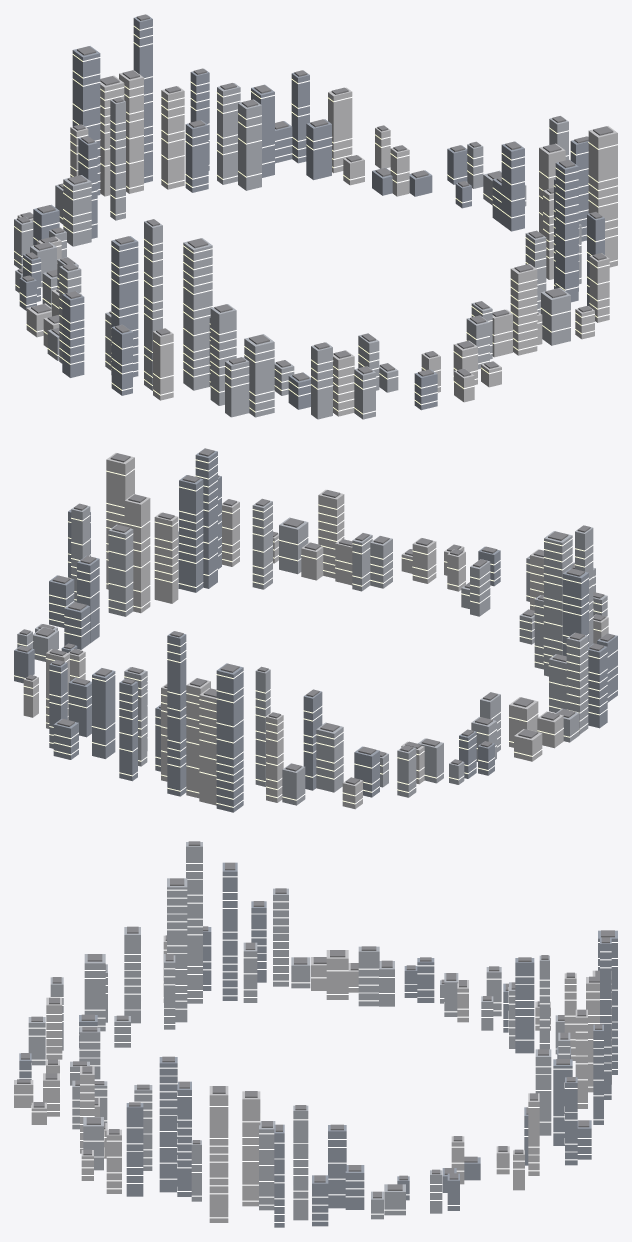
Rendered from bg_city_ring.glb.
3 renders of one model, top to bottom at view 1: azimuth 30°, elevation 25°; view 2: azimuth 150°, elevation 25°; view 3: azimuth 270°, elevation 25°, orthographic. The views are drawn at different scales.
Visible parts, largest first — view 1: bg_city_ring; view 2: bg_city_ring; view 3: bg_city_ring.
Boxes of the visible parts, x1,y1,x2,y2 form: bg_city_ring: (14,14,617,419); bg_city_ring: (14,448,617,812); bg_city_ring: (14,841,617,1227).
Size of the model in its own units: 816 by 239 by 828.
